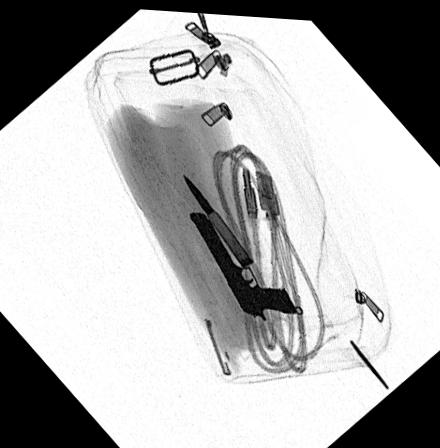Bullet: (182, 169, 251, 263)
Gun: (189, 207, 297, 312)
